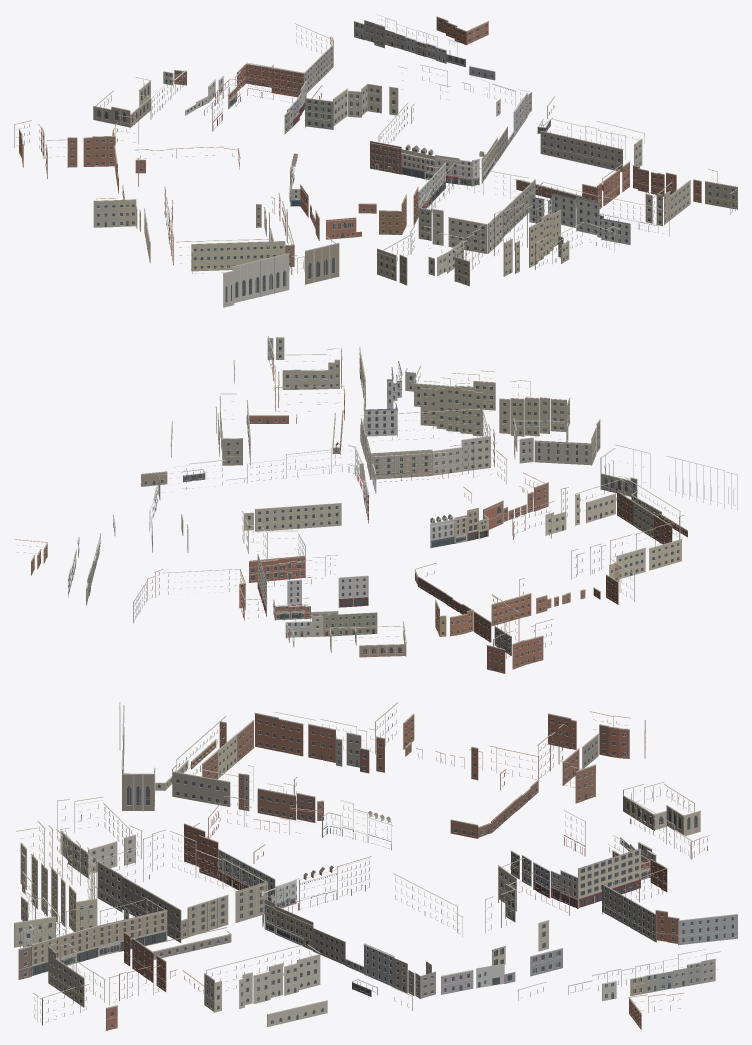
3 views of the same model, one above another, from view 1: azimuth 30°, elevation 25°; view 2: azimuth 150°, elevation 25°; view 3: azimuth 270°, elevation 25° (orthographic). The views are drawn at different scales.
Visible parts, largest first — view 1: f:relation/2214089, f:way/13858373, f:way/13864475, f:way/158913878, f:way/135558509, f:way/132297255, f:way/13863631, f:relation/18226032, f:relation/3240, f:way/965378225, f:way/158913901, f:way/158913888 (+14 smaller); view 2: f:way/135558509, f:relation/2214089, f:way/158913878, f:way/229898939, f:relation/3240, f:way/158913899, f:way/1288750541, f:way/132297255, f:way/13864475, f:way/13858373, f:way/158913904, f:way/147456522 (+14 smaller); view 3: f:relation/2214089, f:way/158913878, f:way/13864475, f:relation/18226032, f:way/1288750541, f:way/135558509, f:way/13863631, f:way/158913875, f:way/132297255, f:relation/3240, f:way/158913904, f:way/965378227 (+20 smaller).
Part boxes in pixels (x1=…): f:relation/2214089: x1=418, y1=163, x2=535, y2=253; f:way/13858373: x1=223, y1=236, x2=339, y2=307; f:way/13864475: x1=529, y1=182, x2=658, y2=244; f:way/158913878: x1=176, y1=193, x2=294, y2=271; f:way/135558509: x1=454, y1=203, x2=561, y2=286; f:way/132297255: x1=304, y1=64, x2=447, y2=129; f:way/13863631: x1=540, y1=118, x2=642, y2=171; f:relation/18226032: x1=237, y1=23, x2=333, y2=96; f:relation/3240: x1=377, y1=226, x2=463, y2=285; f:way/965378225: x1=401, y1=144, x2=459, y2=184; f:way/158913901: x1=46, y1=136, x2=115, y2=167; f:way/158913888: x1=93, y1=198, x2=140, y2=231; f:way/135558509: x1=420, y1=370, x2=570, y2=436; f:relation/2214089: x1=360, y1=409, x2=495, y2=479; f:way/158913878: x1=512, y1=477, x2=680, y2=544; f:way/229898939: x1=244, y1=480, x2=369, y2=531; f:relation/3240: x1=513, y1=418, x2=600, y2=465; f:way/158913899: x1=435, y1=578, x2=547, y2=636; f:way/1288750541: x1=257, y1=554, x2=368, y2=616; f:way/132297255: x1=151, y1=511, x2=305, y2=582; f:way/13864475: x1=359, y1=351, x2=402, y2=436; f:way/13858373: x1=600, y1=444, x2=737, y2=510; f:way/158913904: x1=486, y1=619, x2=553, y2=673; f:way/147456522: x1=282, y1=348, x2=342, y2=389; f:relation/2214089: x1=96, y1=829, x2=268, y2=942; f:way/158913878: x1=172, y1=716, x2=323, y2=822; f:way/13864475: x1=20, y1=897, x2=167, y2=975; f:relation/18226032: x1=601, y1=859, x2=737, y2=945; f:way/1288750541: x1=533, y1=810, x2=640, y2=908; f:way/135558509: x1=16, y1=821, x2=97, y2=931; f:way/13863631: x1=204, y1=944, x2=320, y2=1012; f:way/158913875: x1=308, y1=719, x2=384, y2=773; f:way/132297255: x1=485, y1=858, x2=569, y2=976; f:relation/3240: x1=57, y1=797, x2=141, y2=878; f:way/158913904: x1=548, y1=711, x2=645, y2=758; f:way/965378227: x1=275, y1=906, x2=345, y2=965.
Size of the model in its own units: 256 by 21.89 by 262.
